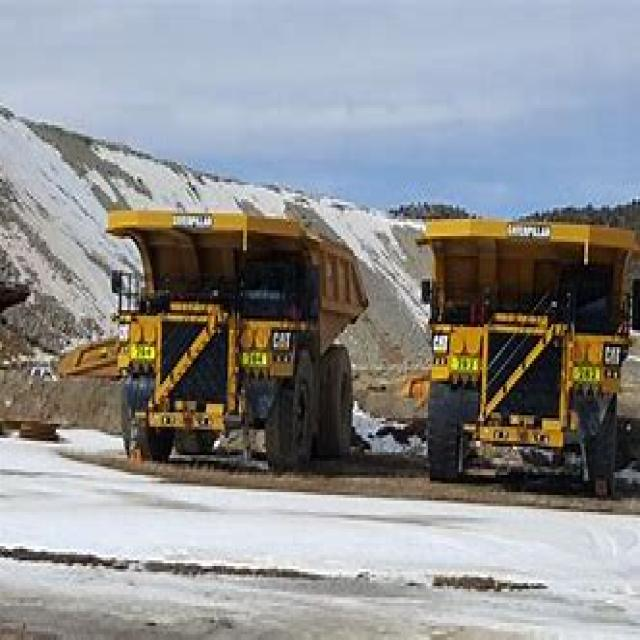dump_truck: (95, 176, 370, 469), (418, 199, 638, 512)
